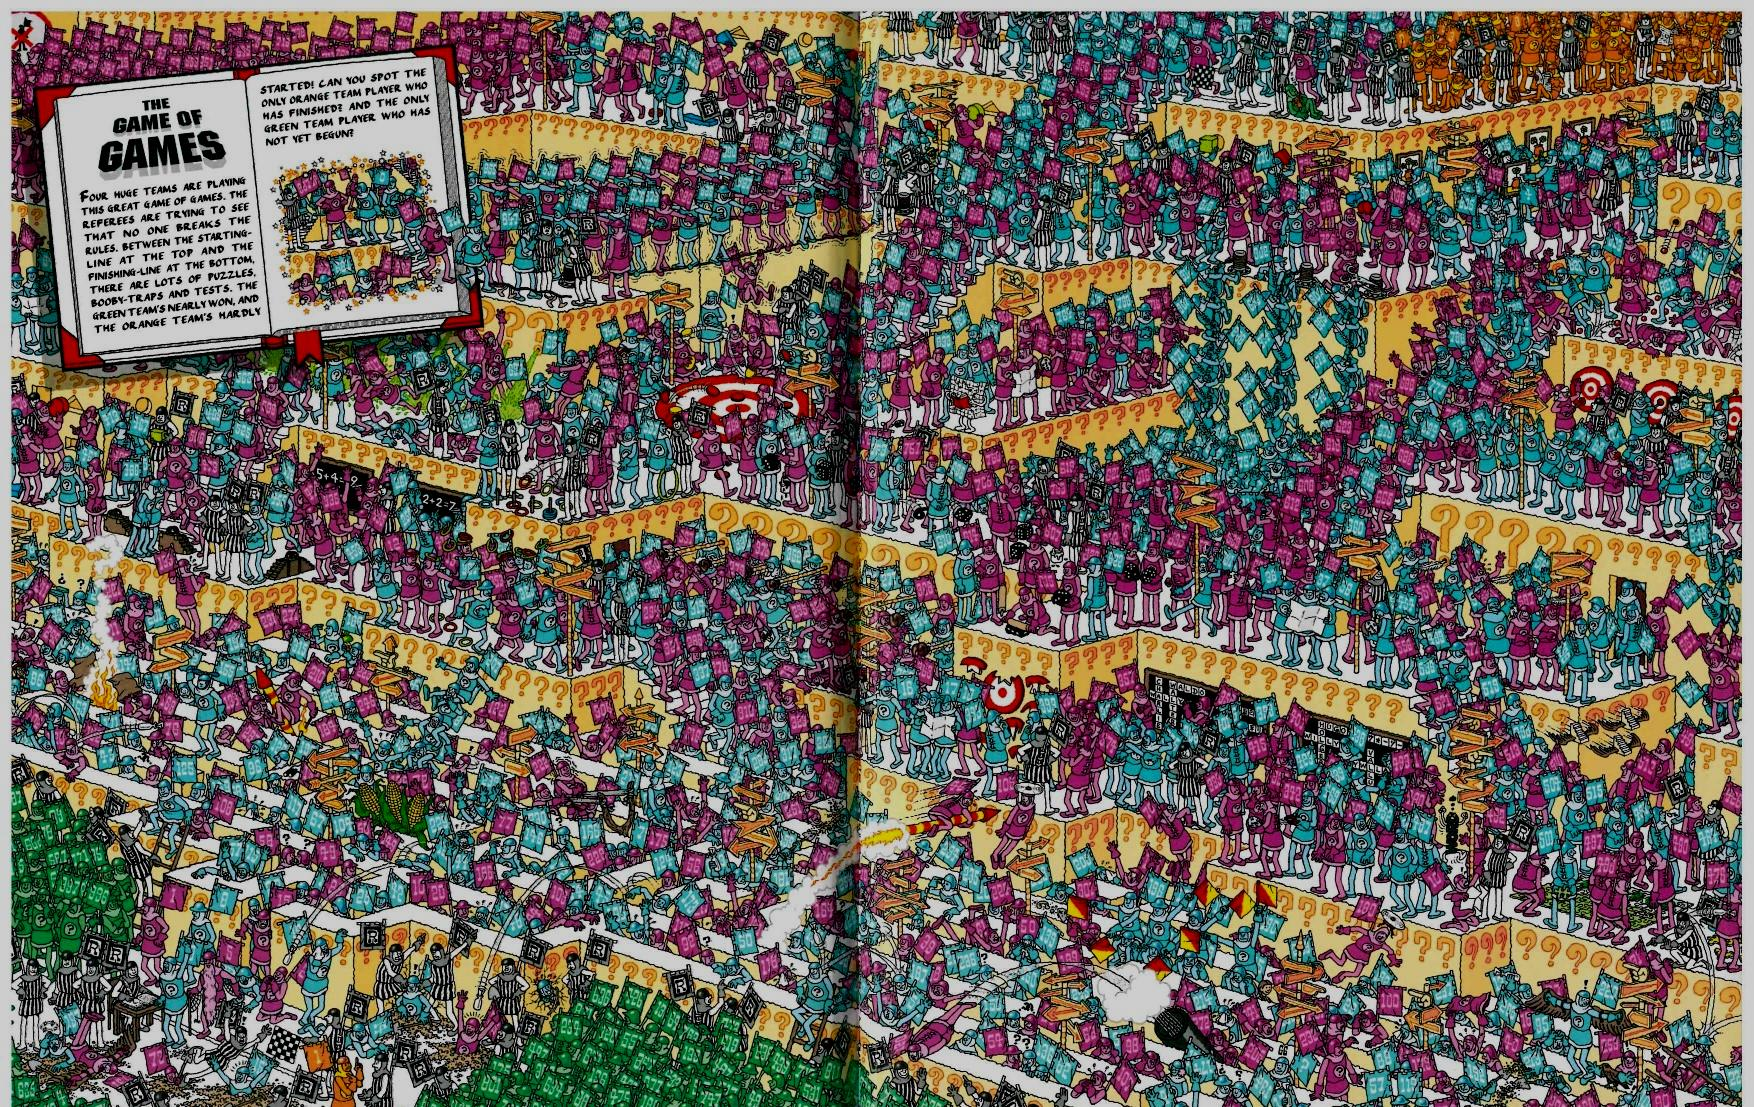waldos: (613, 343, 632, 374)
